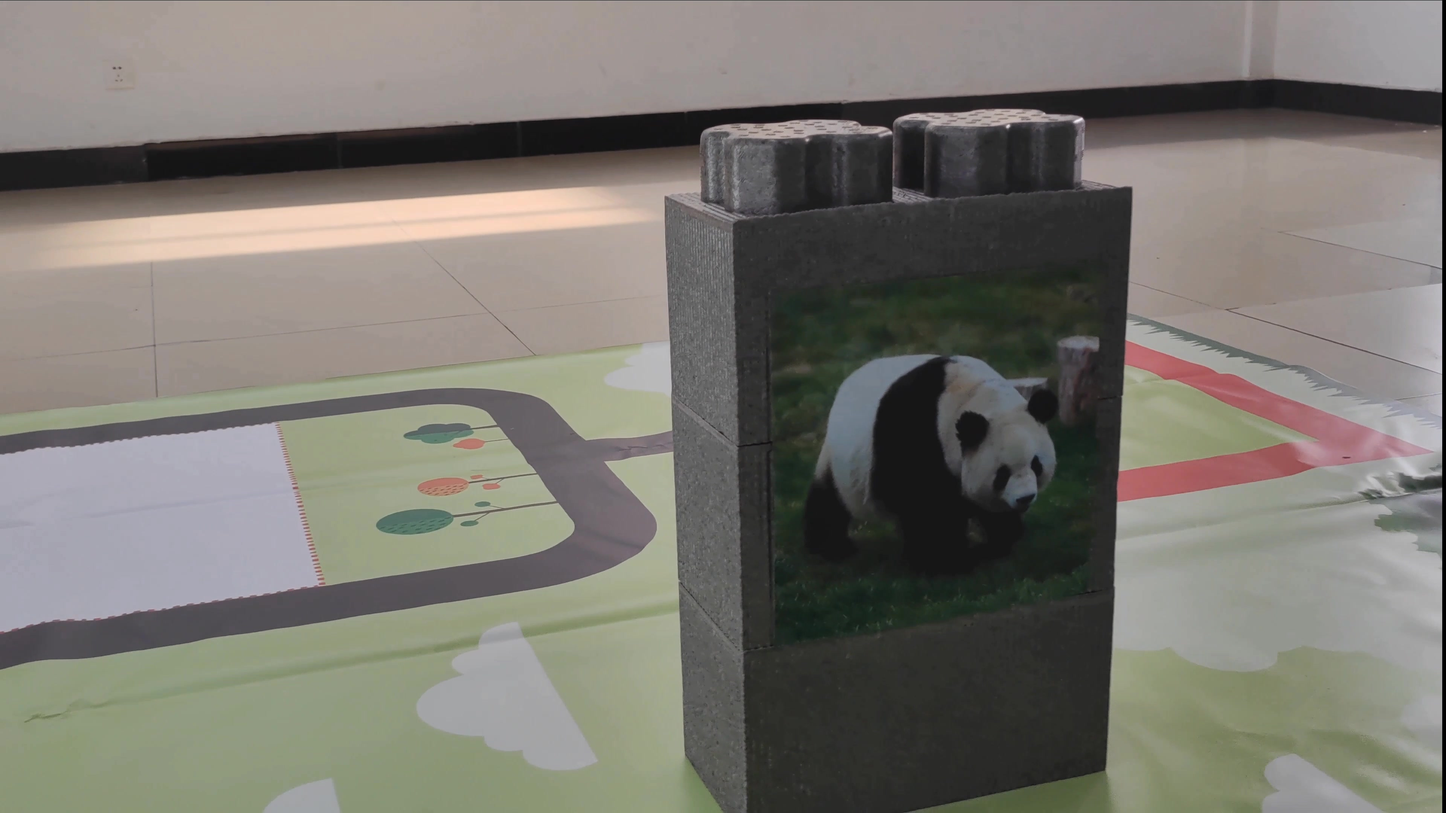panda: (762, 323, 1083, 580)
